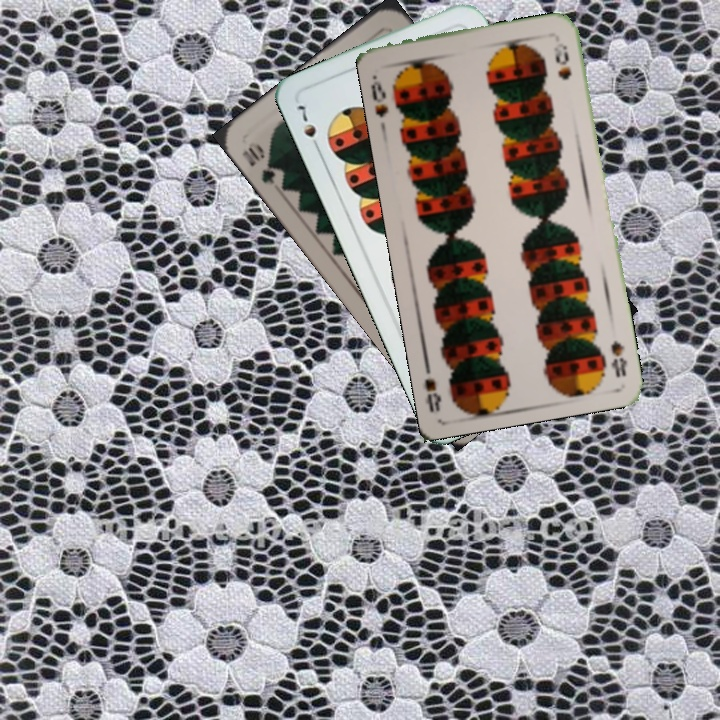G10: (237, 138, 282, 187)
S7: (293, 101, 323, 155)
S8: (367, 71, 391, 121), (607, 337, 630, 380)
